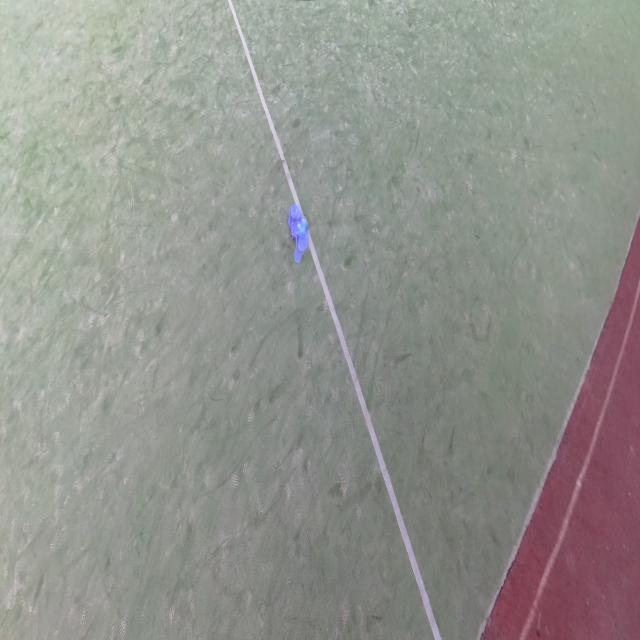rubbish: (287, 203, 308, 265)
